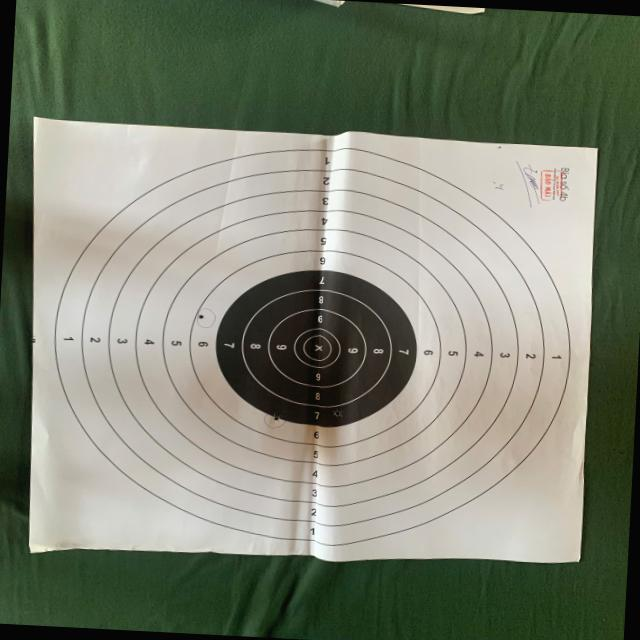bullet: (336, 409, 343, 417), (273, 416, 278, 421), (199, 315, 204, 318)
target: (28, 117, 597, 564)
